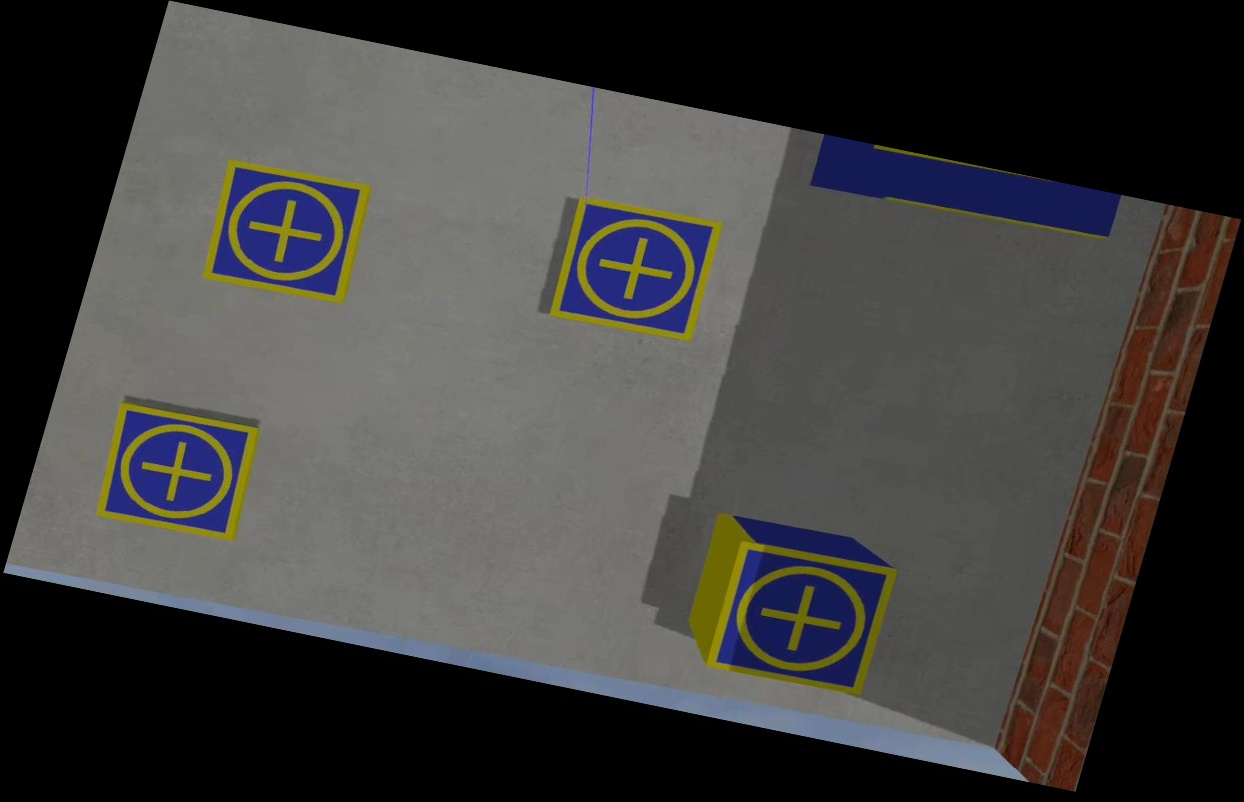small_base: (700, 534, 901, 700), (543, 193, 729, 345), (196, 155, 380, 308), (87, 397, 263, 543)
